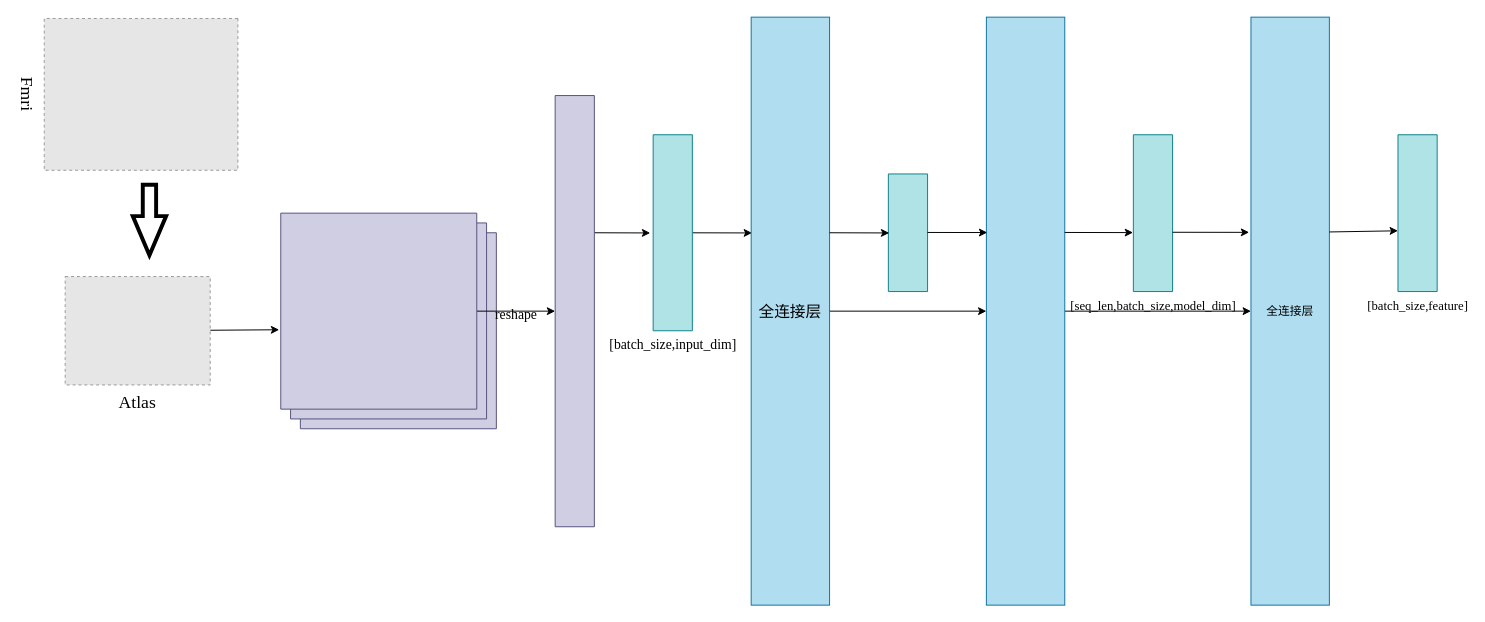
Some shapes in this 1485 by 622 pixel diagram are drawn without their labels. Grey dashed boxes stand in for pictures. The shapes that lost their labels are listed below. From the top down, each one's centre as x and y in pixels, then its label:
At pixel 907 232: "[batch_size,model_dim]".
At pixel 378 310: "cc200脑图谱(200*200)".
At pixel 574 311: "[batch_size,input_dim*input_dim]".
At pixel 1025 310: "tansformer Encoder".
